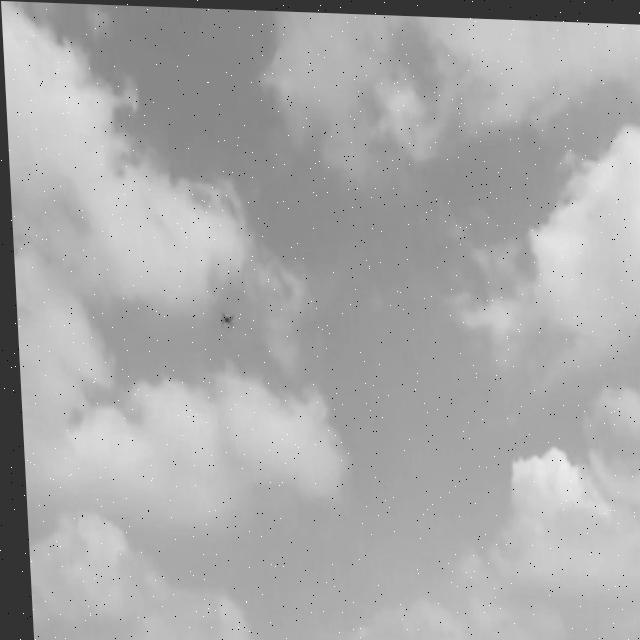drone: (212, 303, 233, 325)
